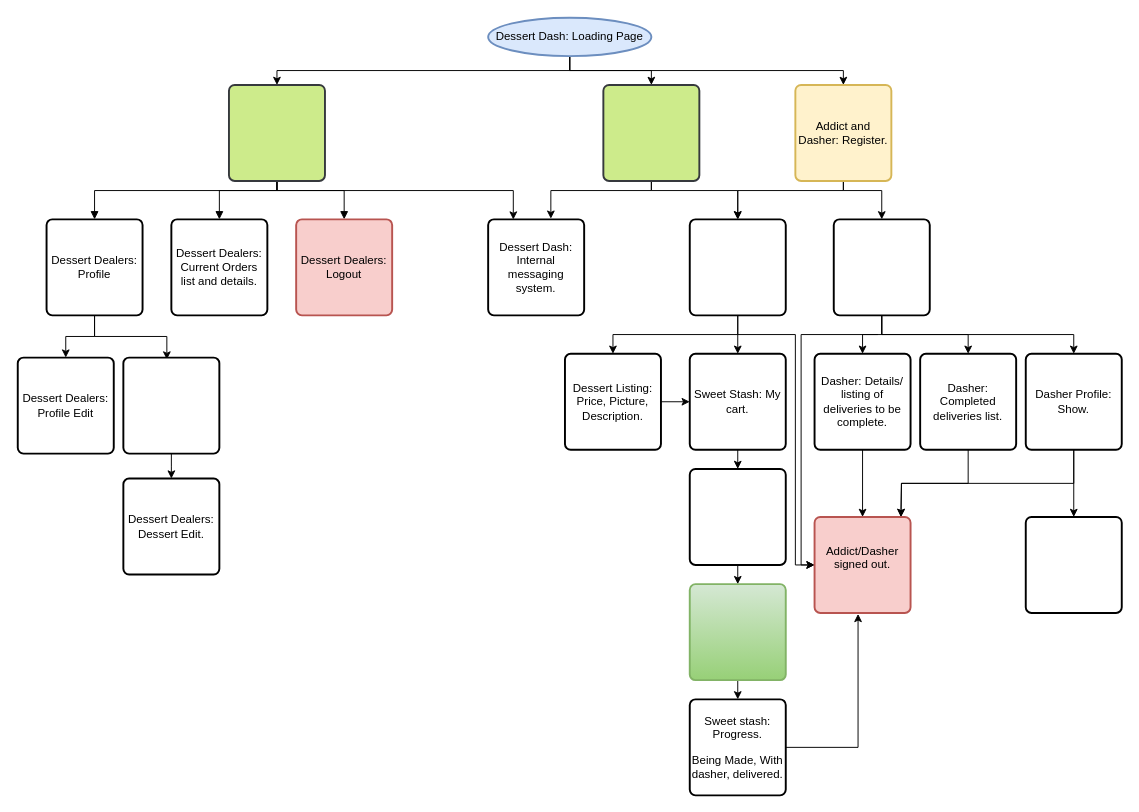
The diagram is 1139 pixels wide and 812 high, and some of its shapes have lost their labels. Here are the shapes that lost their labels. From the top down, the centre of each, then its label:
At point 276,132: "Dessert Dealers: Login (No registration)".
At point 651,132: "Addict and Dasher: Login".
At point 737,267: "Addict Tab: Listing of dealers and their desserts.".
At point 881,267: "Dasher Tab: Online/ Offline mode".
At point 171,405: "Dessert Dealers: Dessert Listings".
At point 737,516: "Addict: Sweet Stash Payment.".
At point 1073,564: "Dasher Profile: Edit".
At point 737,632: "Sweet Stash: Payment and Order Confirmation.".
